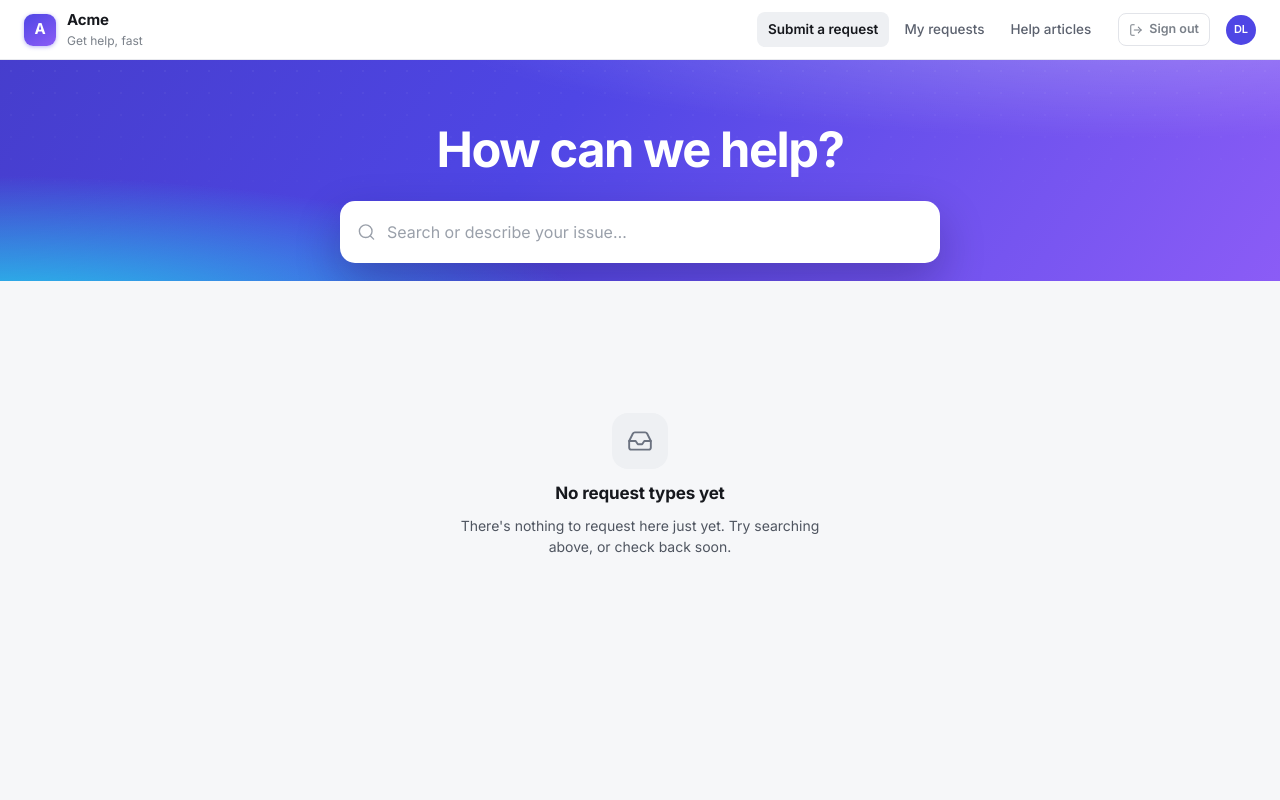
Test: RequesterPortal › shows no satisfaction prompt when surveys are disabled
Step 1. Click the button "My requests" → [944, 30], box [893,12,996,47]
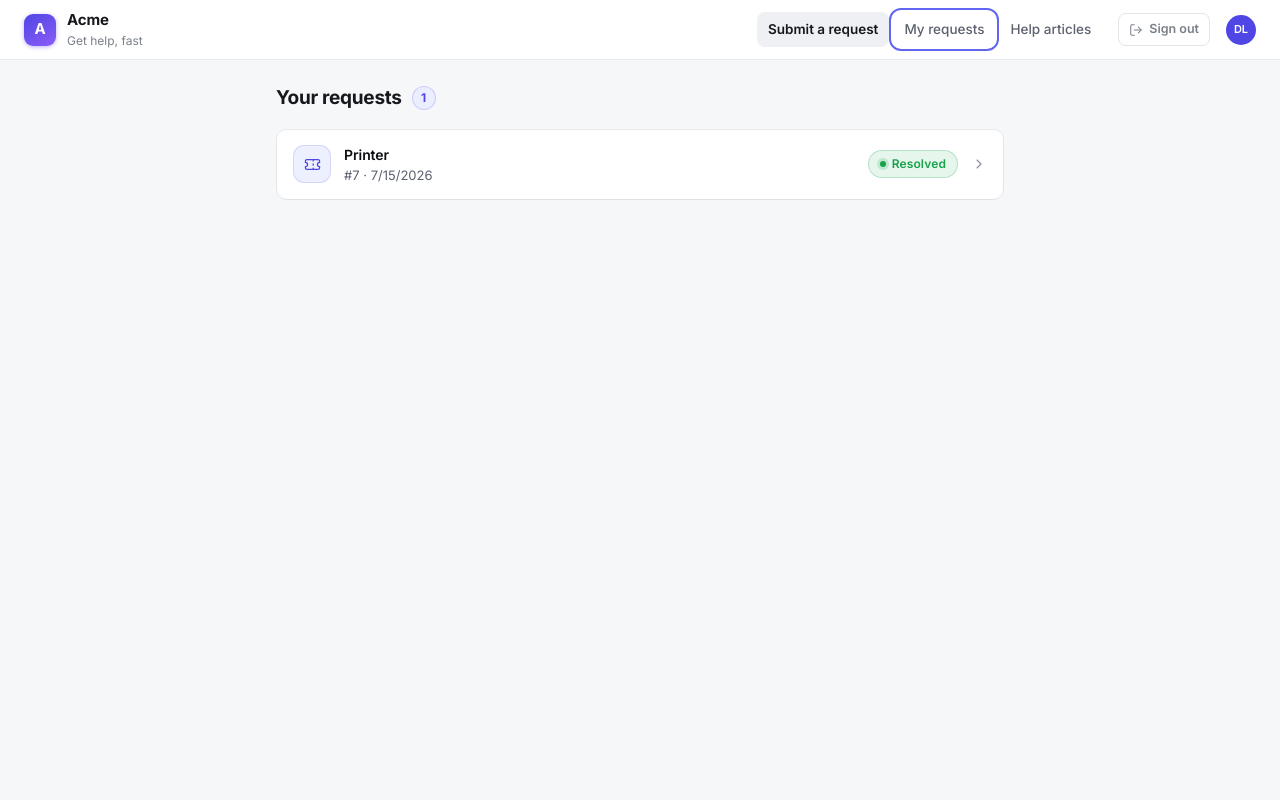
Expected: the text "Printer" is shown, [344,146,389,162]
